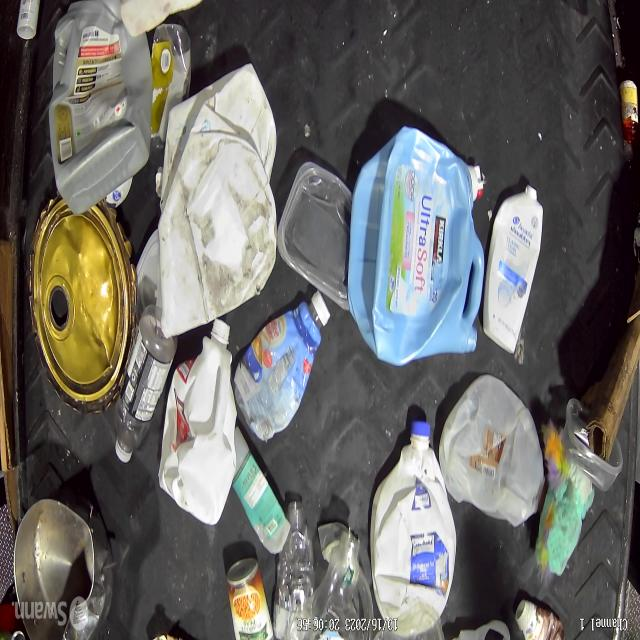can: (226, 556, 274, 640)
milk_jug: (157, 102, 277, 338), (368, 416, 457, 632), (159, 61, 277, 216), (157, 318, 239, 528), (438, 374, 546, 530)
non_white_jug: (348, 125, 485, 367), (47, 0, 154, 216)
plastic_bottle: (114, 302, 178, 466), (150, 22, 192, 199), (273, 500, 315, 640)
